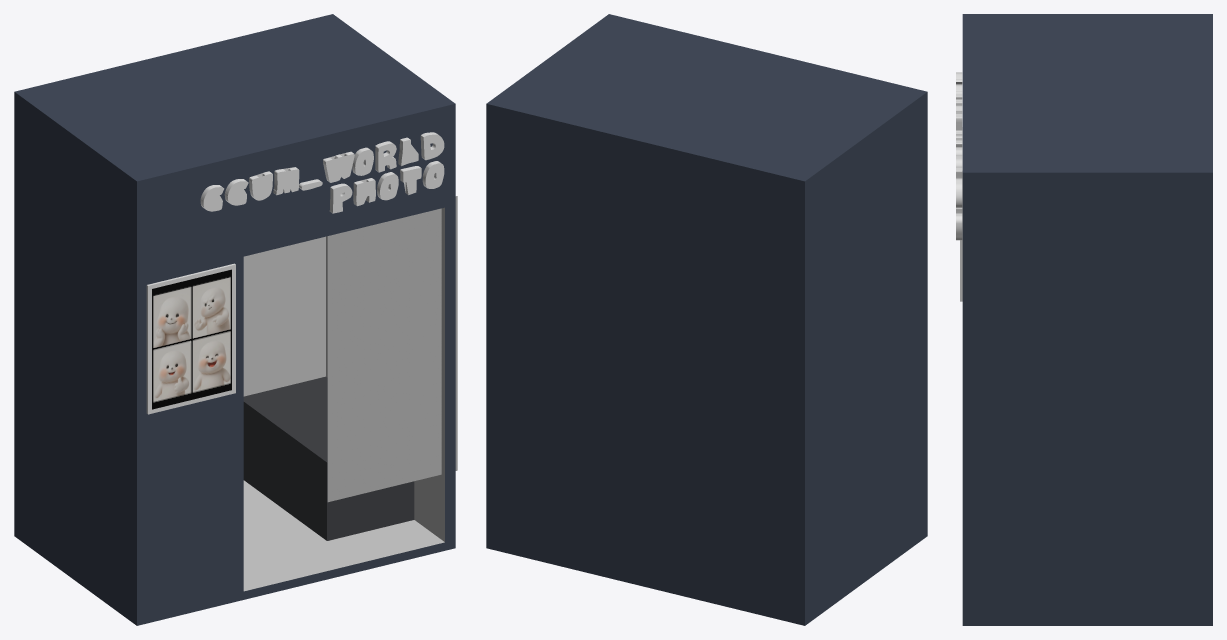
The model's file is curtain_anim2.fbx.
3 renders of one model, left to right at view 1: azimuth 30°, elevation 25°; view 2: azimuth 150°, elevation 25°; view 3: azimuth 270°, elevation 25°, orthographic. The views are drawn at different scales.
Visible parts, largest first — view 1: booth, curtain, chair, frame, GGUM_typo1; view 2: booth; view 3: booth, GGUM_typo1.
Part boxes in pixels (x1,y1,x2,y2): booth: (14, 14, 455, 625); curtain: (327, 196, 457, 502); chair: (243, 376, 414, 540); frame: (146, 263, 235, 414); GGUM_typo1: (200, 132, 444, 213); booth: (486, 14, 927, 625); booth: (962, 14, 1212, 625); GGUM_typo1: (956, 72, 962, 240).
Bounding box in the file's own units: 153 × 200 × 103.
Materials: 10 (1 with a texture image).
